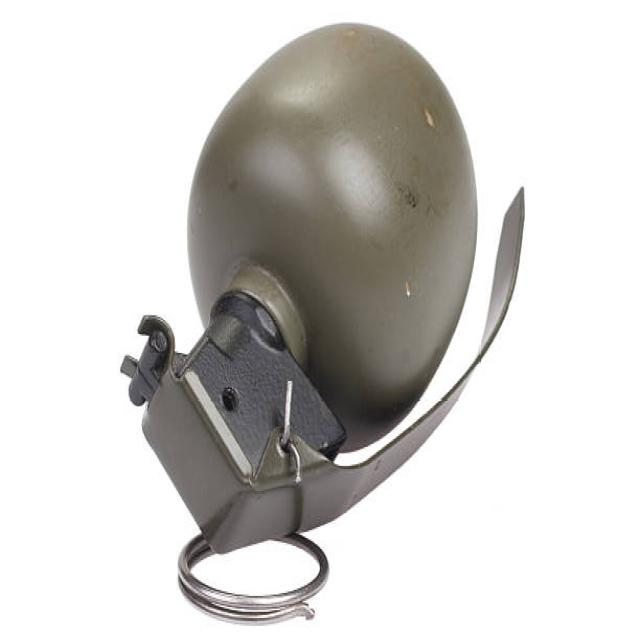grenade: (120, 10, 536, 632)
